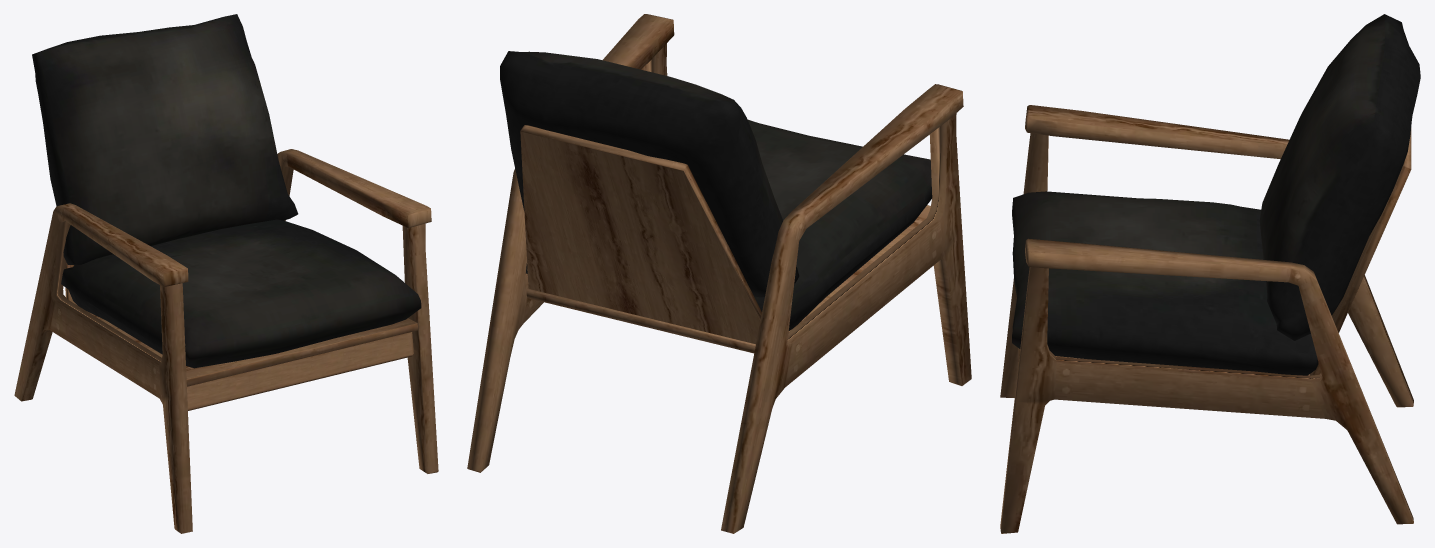
Rendered from modern_arm_chair_01.glb.
The picture shows the model from 3 angles, left to right: view 1: azimuth 30°, elevation 25°; view 2: azimuth 150°, elevation 25°; view 3: azimuth 270°, elevation 25°; orthographic projection. The views are drawn at different scales.
Visible parts, largest first — view 1: modern_arm_chair_01; view 2: modern_arm_chair_01; view 3: modern_arm_chair_01.
Boxes of the visible parts, x1=… form: modern_arm_chair_01: x1=14, y1=14, x2=438, y2=533; modern_arm_chair_01: x1=467, y1=14, x2=971, y2=533; modern_arm_chair_01: x1=1000, y1=14, x2=1420, y2=533.
Bounding box in the file's own units: 0.8173 × 1.02 × 0.9864.
Materials: 2 (2 with a texture image).
